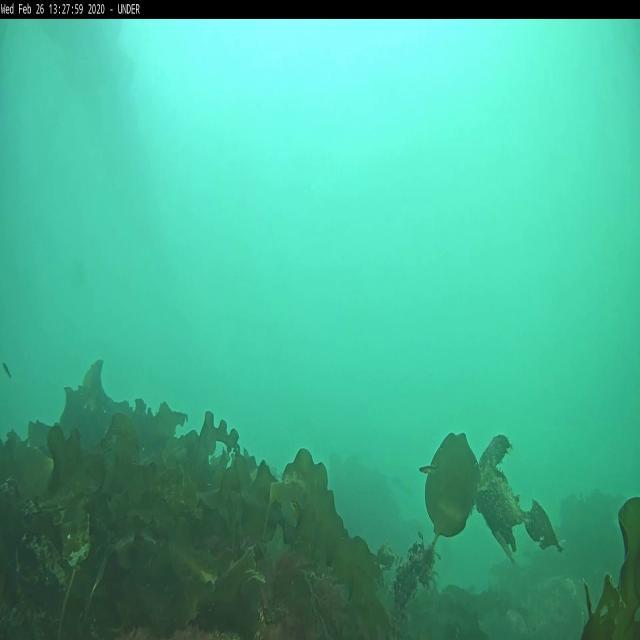fish: (0, 359, 12, 382), (418, 461, 439, 474)
